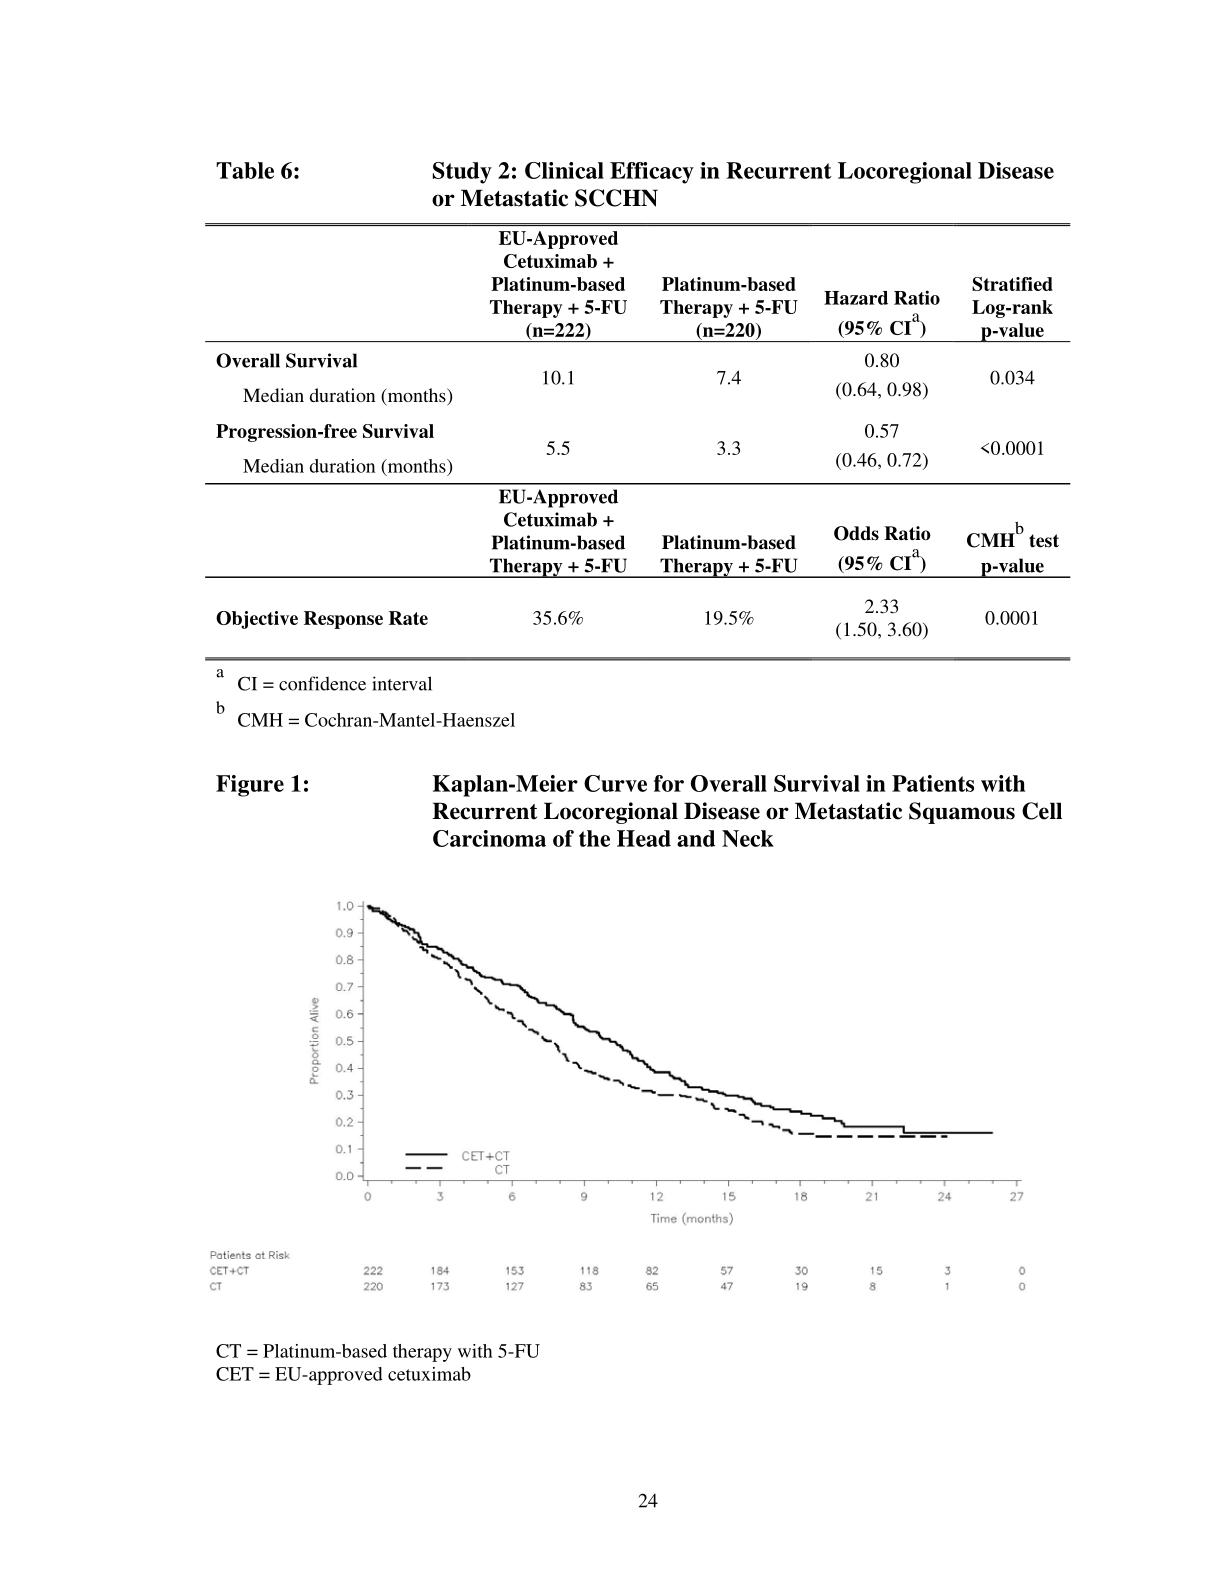partial_lined_merged_cells: (201, 212, 1081, 663)
